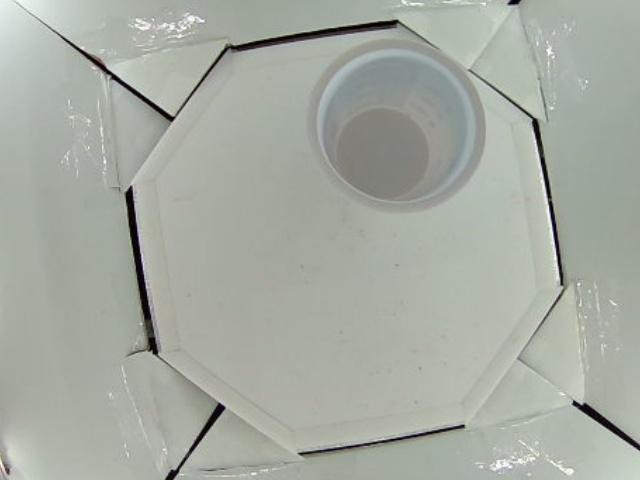Cup: (313, 40, 486, 214)
